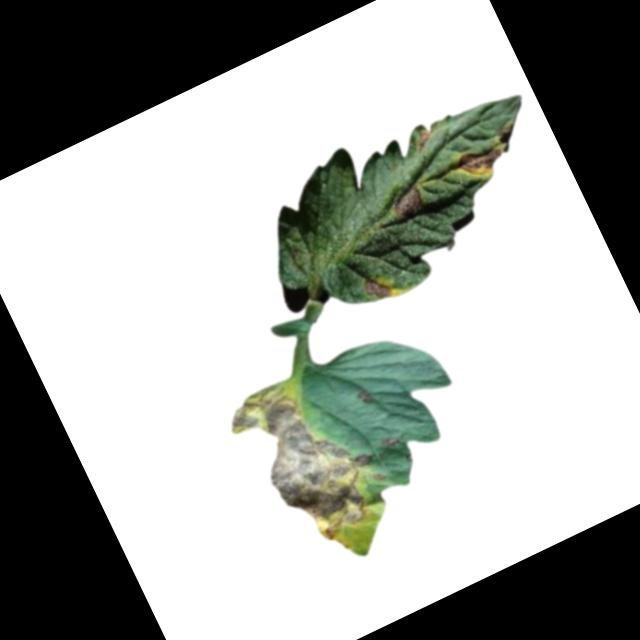Early_blight: (222, 358, 398, 554), (449, 135, 511, 188), (384, 184, 426, 223), (360, 268, 398, 304), (409, 123, 436, 152), (353, 383, 376, 406), (376, 431, 399, 453)
